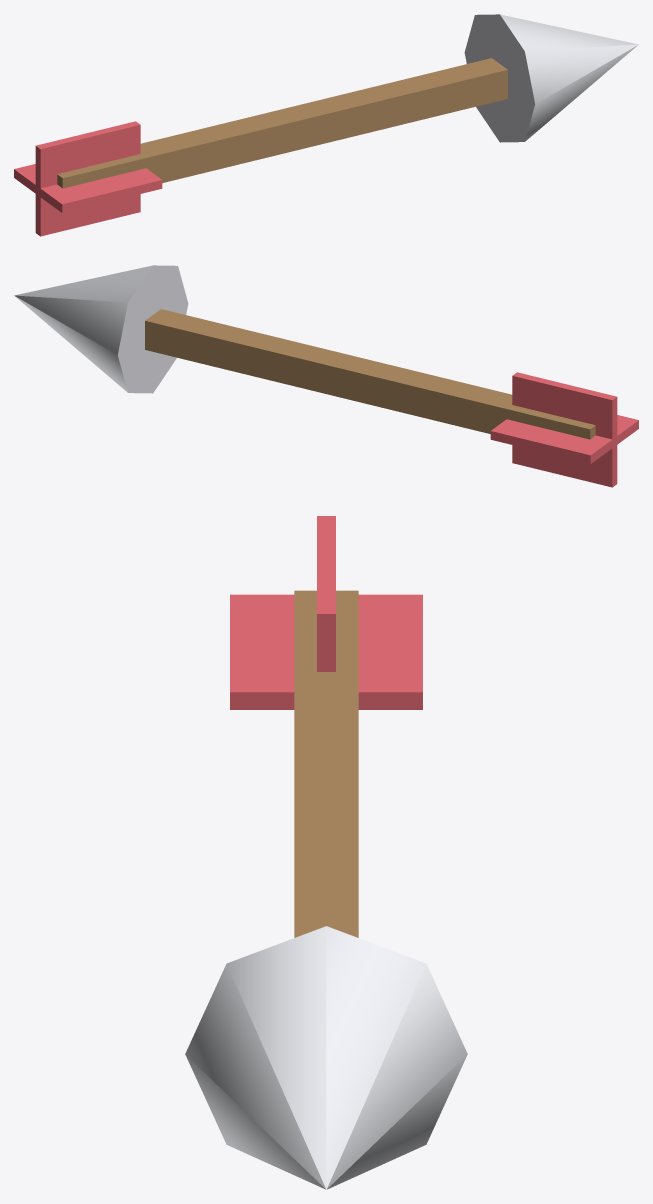
The model's file is arrow.gltf.
3 renders of one model, top to bottom at view 1: azimuth 30°, elevation 25°; view 2: azimuth 150°, elevation 25°; view 3: azimuth 270°, elevation 25°, orthographic. The views are drawn at different scales.
Visible parts, largest first — view 1: arrow; view 2: arrow; view 3: arrow.
Part boxes in pixels (<box>): arrow: <box>14,14,638,236</box>; arrow: <box>14,265,638,487</box>; arrow: <box>185,516,467,1189</box>.
Size of the model in its own units: 2.16 by 0.44 by 0.44.
